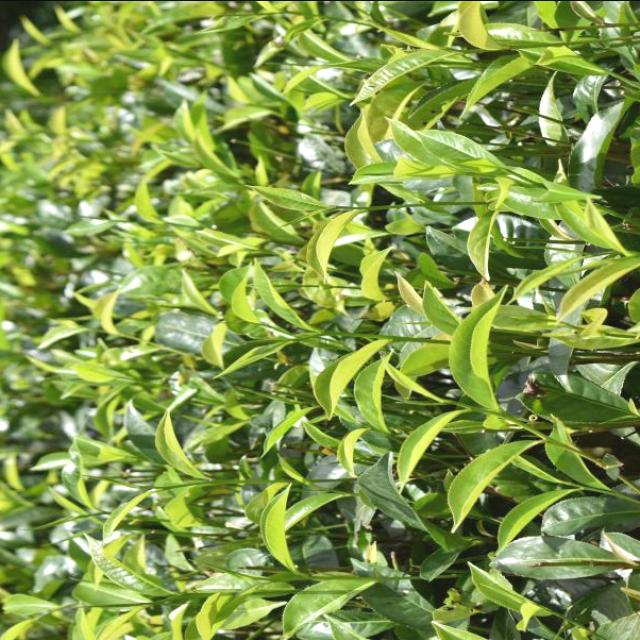Stem: (468, 405, 475, 411), (320, 329, 327, 334), (460, 49, 467, 53), (334, 205, 339, 208), (163, 486, 167, 489)
